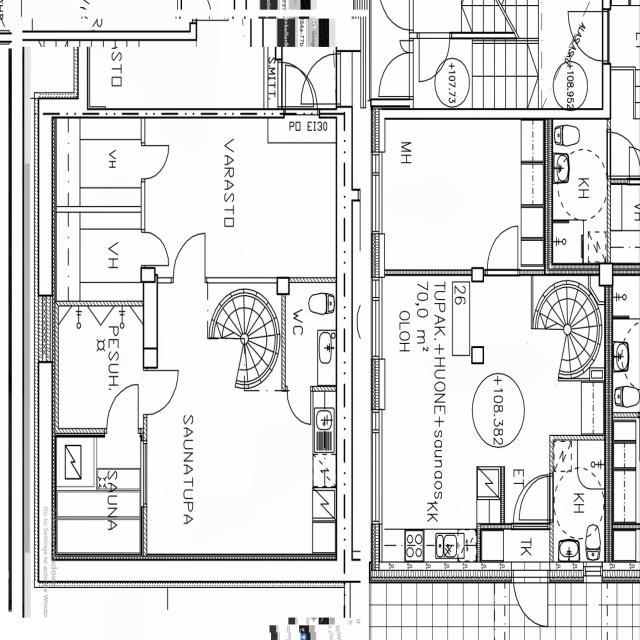Doors-dC8s: (604, 10, 611, 60), (142, 143, 150, 179), (408, 38, 412, 100), (174, 276, 214, 282), (144, 363, 148, 418), (487, 266, 523, 272), (419, 30, 453, 36), (287, 107, 342, 110), (106, 426, 142, 430), (516, 520, 551, 522), (552, 474, 553, 528), (144, 232, 144, 266), (509, 580, 551, 580)
Window: (195, 22, 253, 46), (584, 384, 606, 440), (39, 292, 51, 375), (373, 358, 384, 422), (374, 110, 388, 157), (373, 522, 384, 574), (375, 231, 386, 280), (351, 547, 362, 588), (138, 445, 144, 514), (352, 180, 360, 220), (590, 575, 601, 579)
